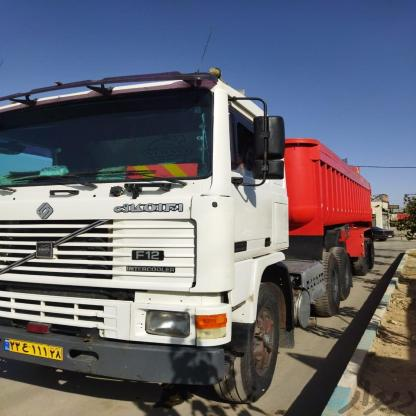Truck: (0, 75, 365, 393)
